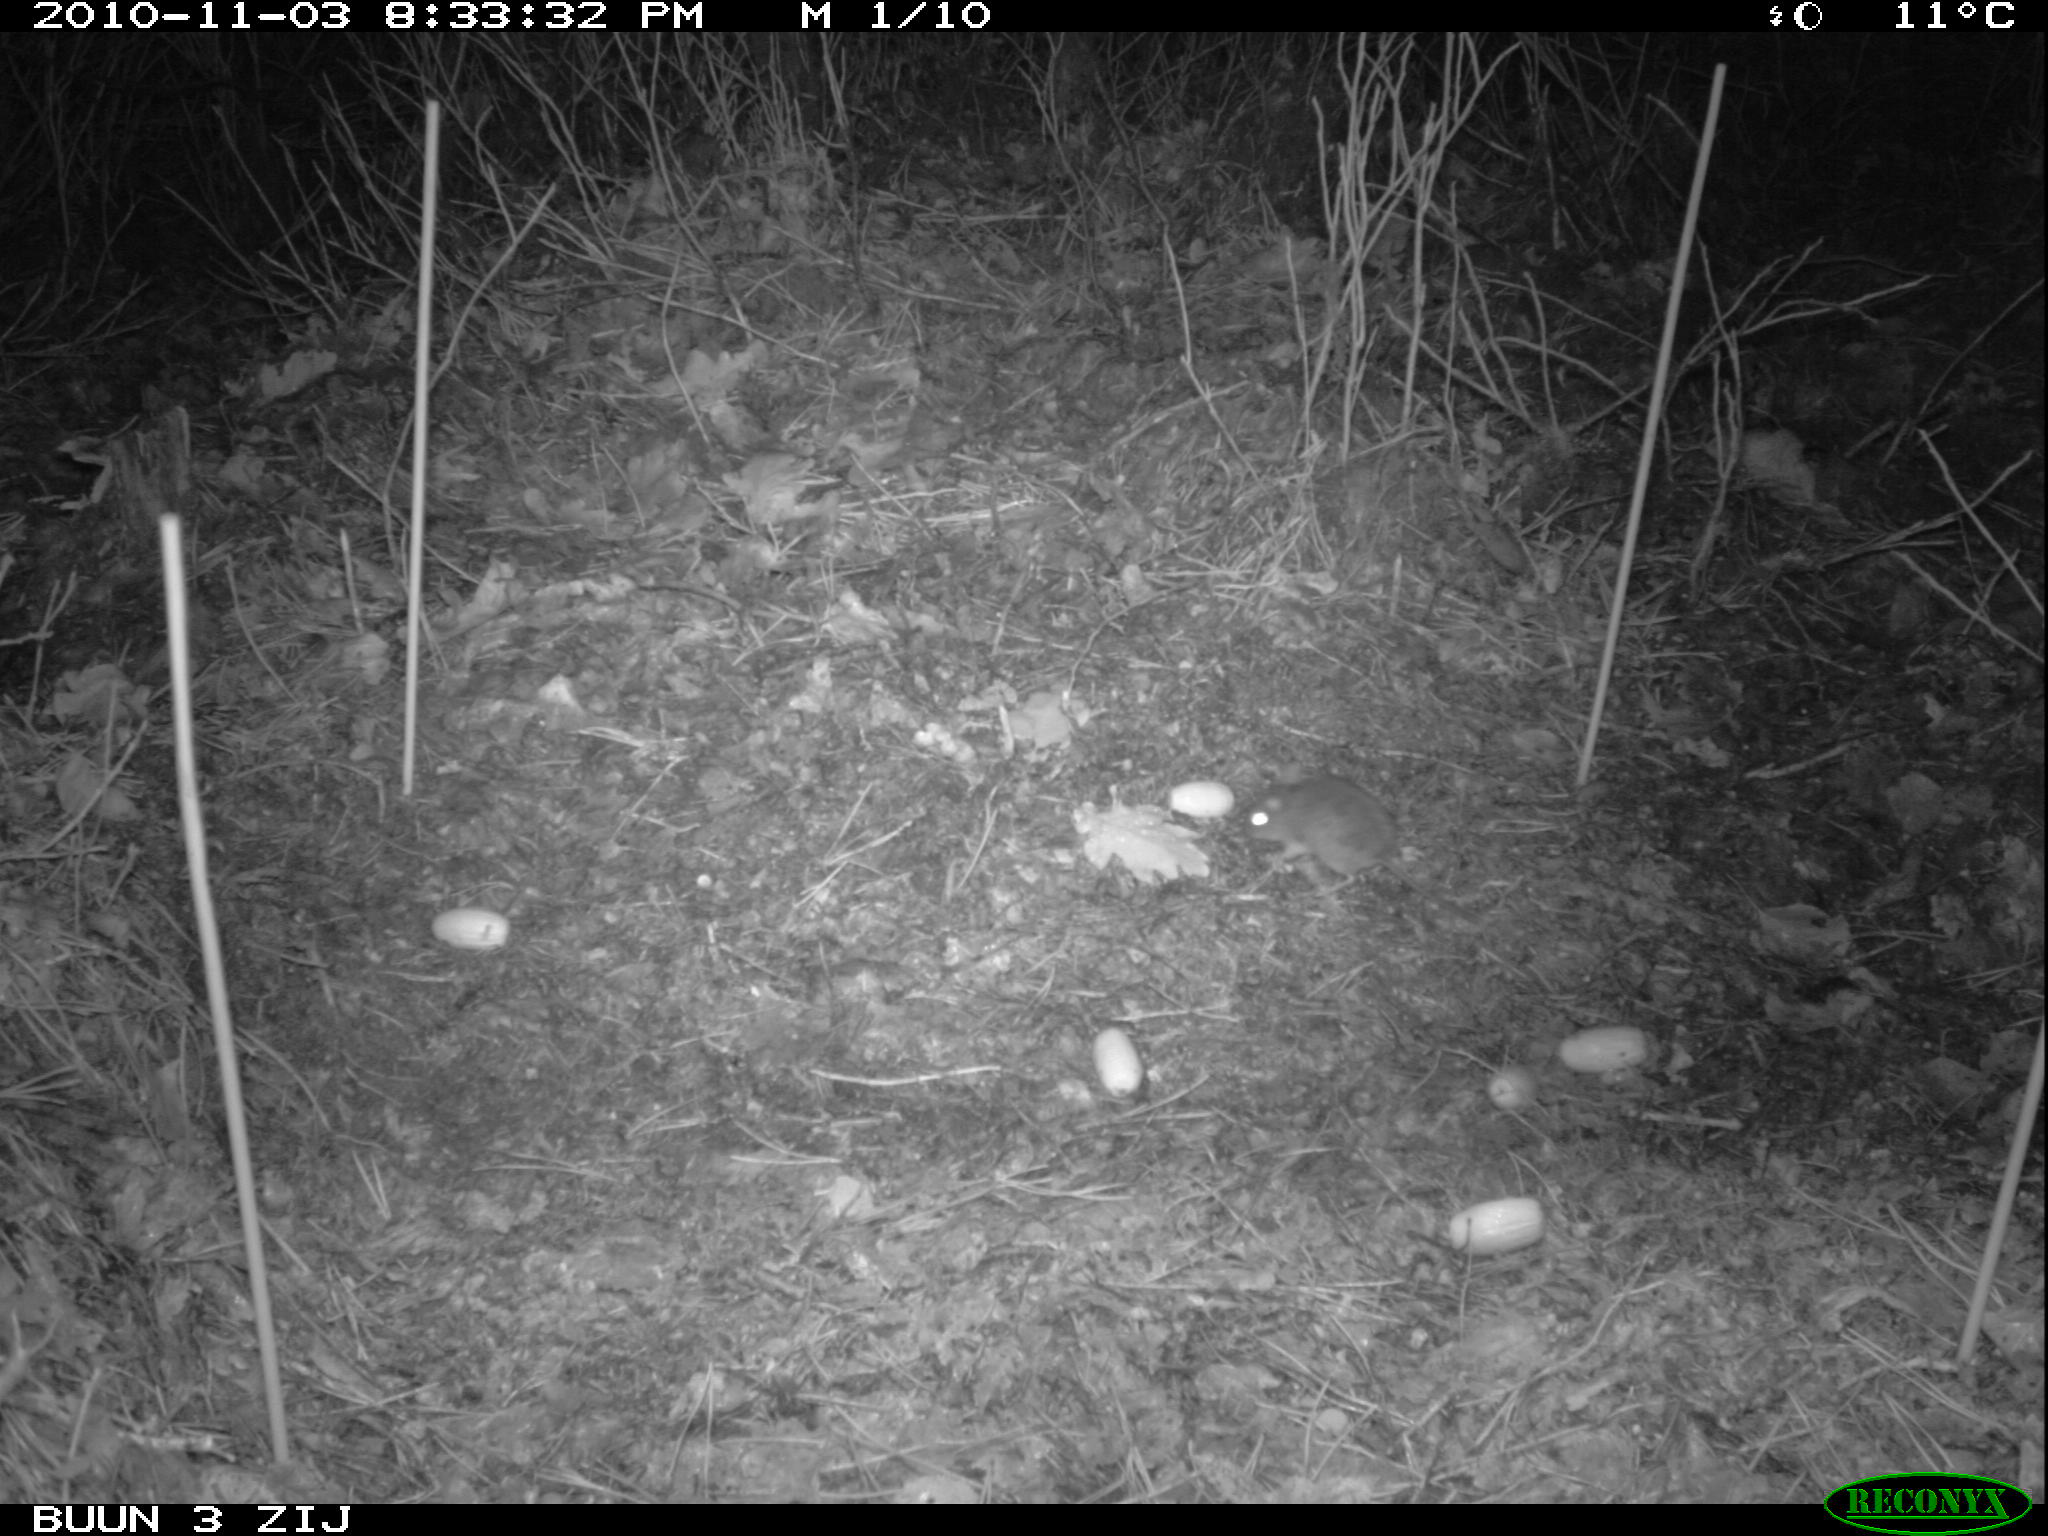Rodent: (1235, 765, 1429, 920)
